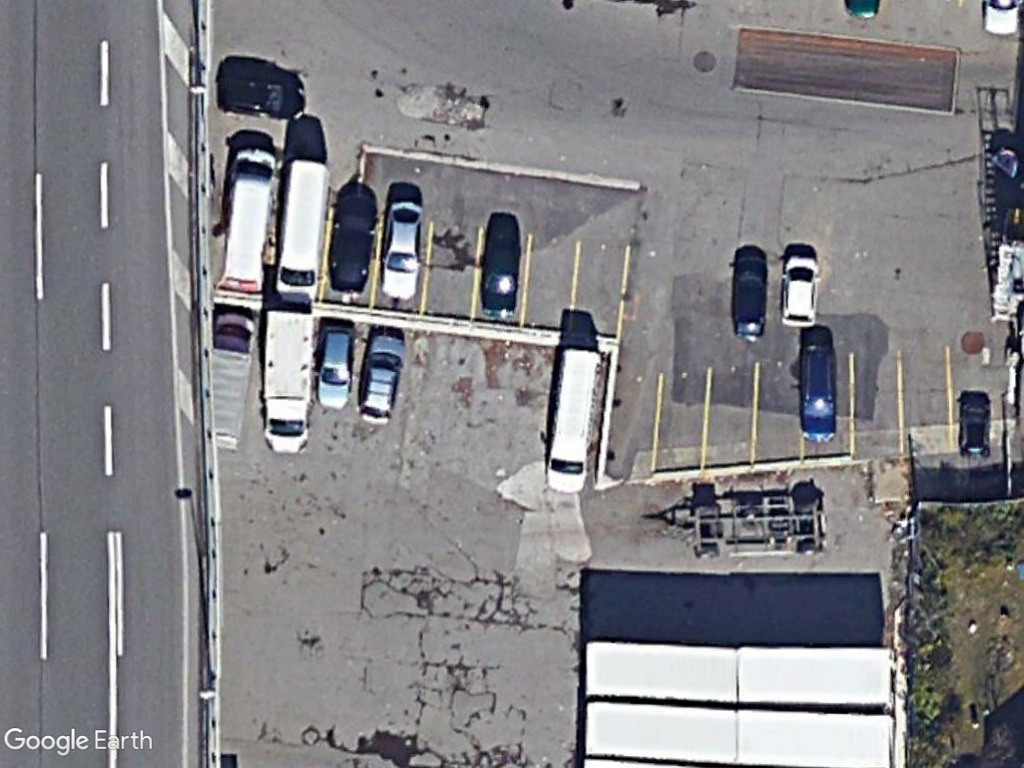car: (380, 197, 426, 302), (357, 332, 407, 427), (796, 339, 840, 444), (313, 322, 357, 414), (731, 252, 769, 342), (778, 253, 822, 328)
truck: (259, 307, 318, 457)
van: (543, 343, 606, 495), (275, 155, 335, 305), (218, 143, 278, 292)
